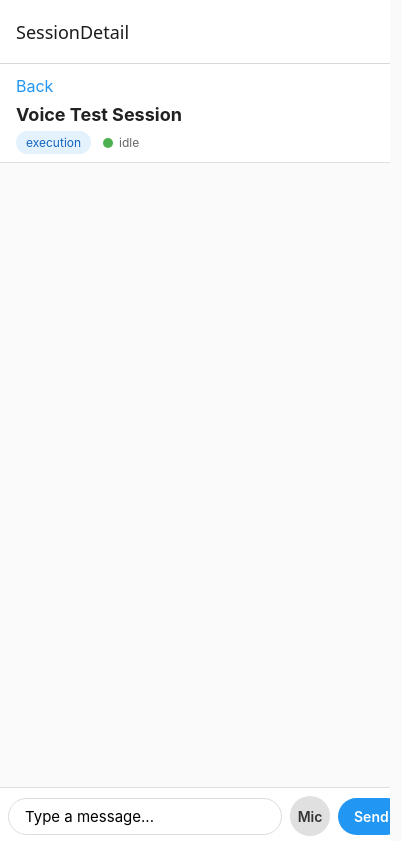
Test: SessionDetailScreen with voice input › voice transcript populates the message TextInput
This screenshot has width=402, height=841.
Start listening
Click the button with test id "voice-button": (310, 816) [290,796,330,836]
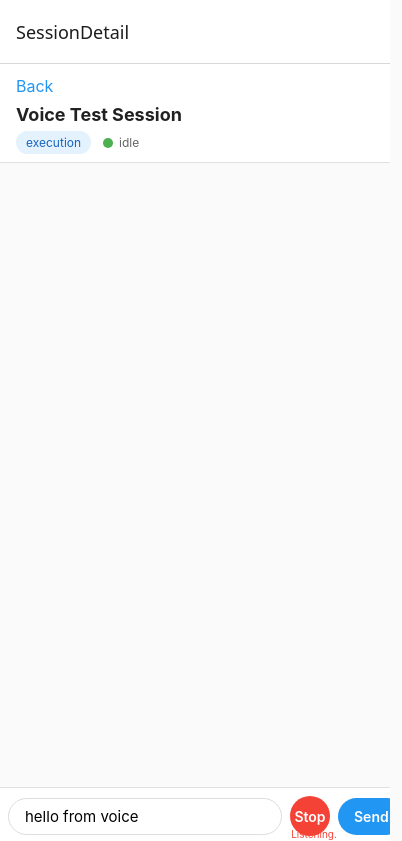
Expected: the field with test id "message-input" holds "hello from voice", [8,798,282,834]
